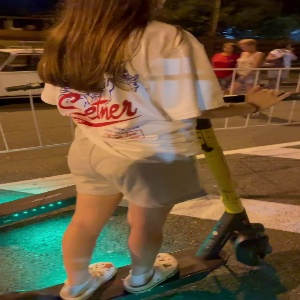human on a scooter: (1, 1, 300, 300)
